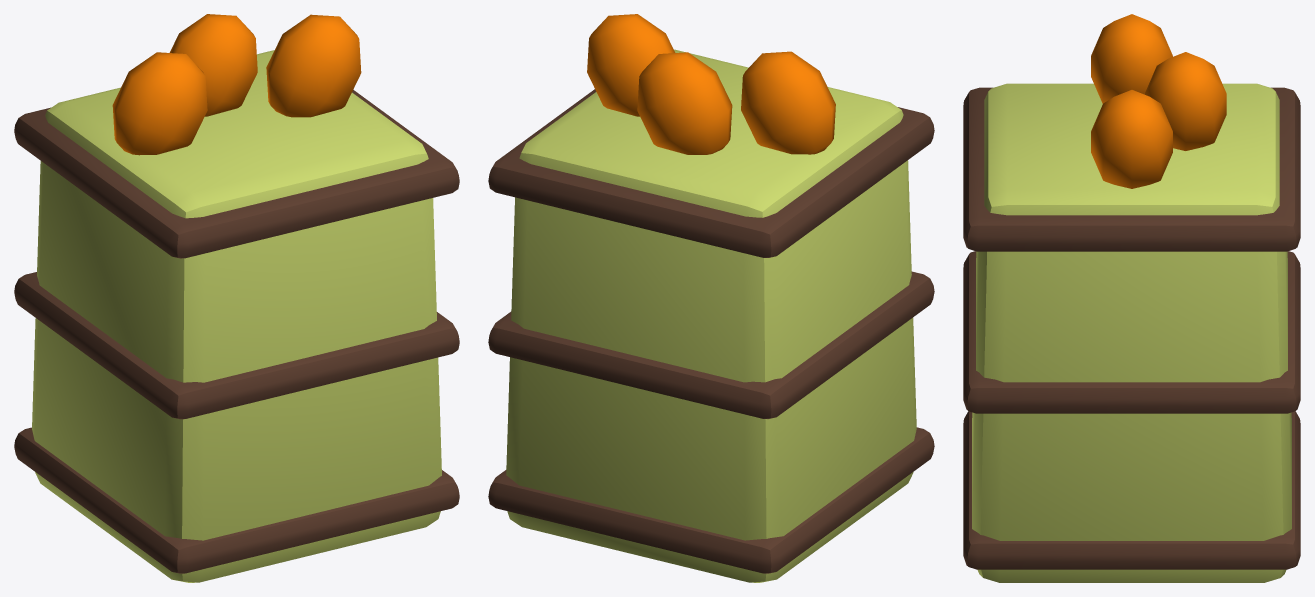
File: W3_FruitCrate_A.fbx
The picture shows the model from 3 angles, left to right: view 1: azimuth 30°, elevation 25°; view 2: azimuth 150°, elevation 25°; view 3: azimuth 270°, elevation 25°; orthographic projection.
Parts seen in each view (by area): view 1: W3_FruitCrate_A; view 2: W3_FruitCrate_A; view 3: W3_FruitCrate_A.
Part boxes in pixels (x1,y1,x2,y2): W3_FruitCrate_A: (14, 14, 459, 582); W3_FruitCrate_A: (488, 14, 934, 582); W3_FruitCrate_A: (963, 14, 1300, 582).
Size of the model in its own units: 0.9424 by 1.46 by 0.9424.
